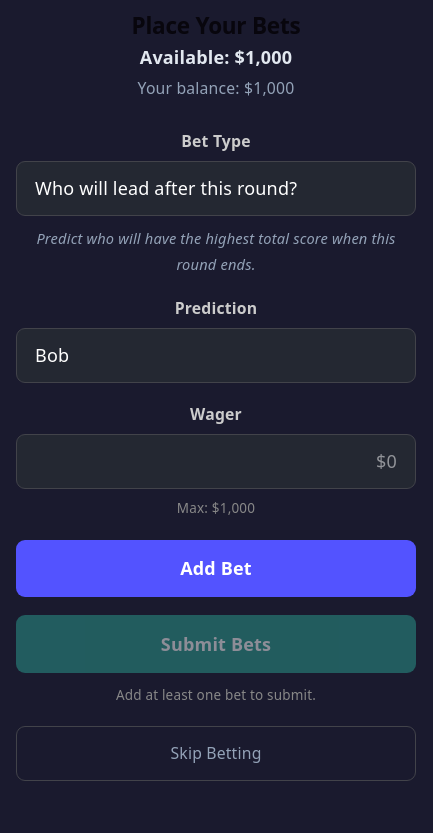
Test: PlayerBettingPanel › Cumulative wager constraint enforcement (Req 4.3) › rejects a wager of 0
Type "0" into the field labelled "Wager".
click(216, 461); type("0")  # box [16, 434, 416, 489]
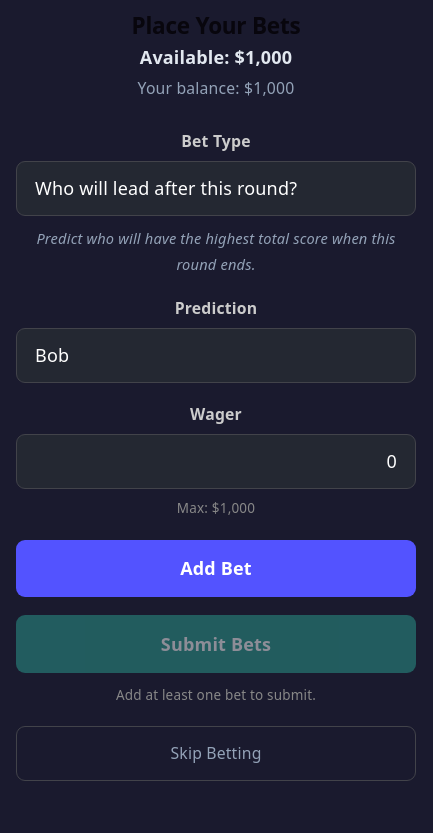
Click the button "Add Bet".
click(216, 568)  # box [16, 540, 416, 597]
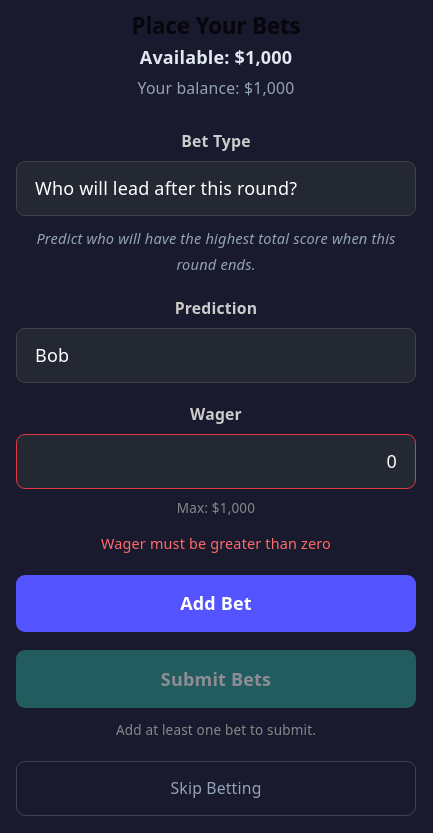
Check: the message reads "Wager must be greater than zero", box [101, 534, 331, 553]
